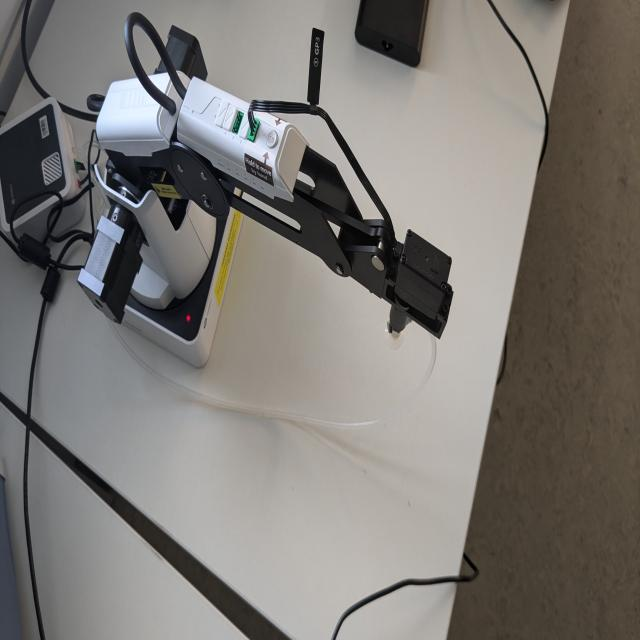Robot-end-effector-HF8z: (382, 215, 455, 384)
